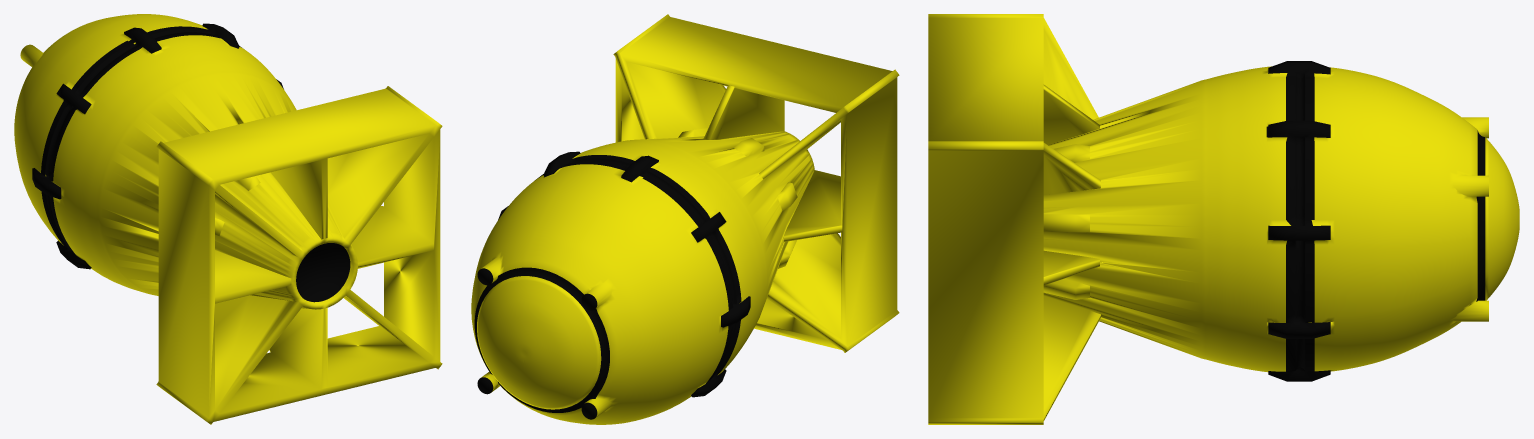
File: fatman.glb
3 views of the same model, side by side, from view 1: azimuth 30°, elevation 25°; view 2: azimuth 150°, elevation 25°; view 3: azimuth 270°, elevation 25° (orthographic). The views are drawn at different scales.
Visible parts, largest first — view 1: fatman; view 2: fatman; view 3: fatman.
Part boxes in pixels (box(x1,y1,x2,y2)): fatman: box(14, 14, 442, 424); fatman: box(471, 14, 899, 424); fatman: box(928, 14, 1519, 424).
Size of the model in its own units: 0.94 by 0.9492 by 1.75.
